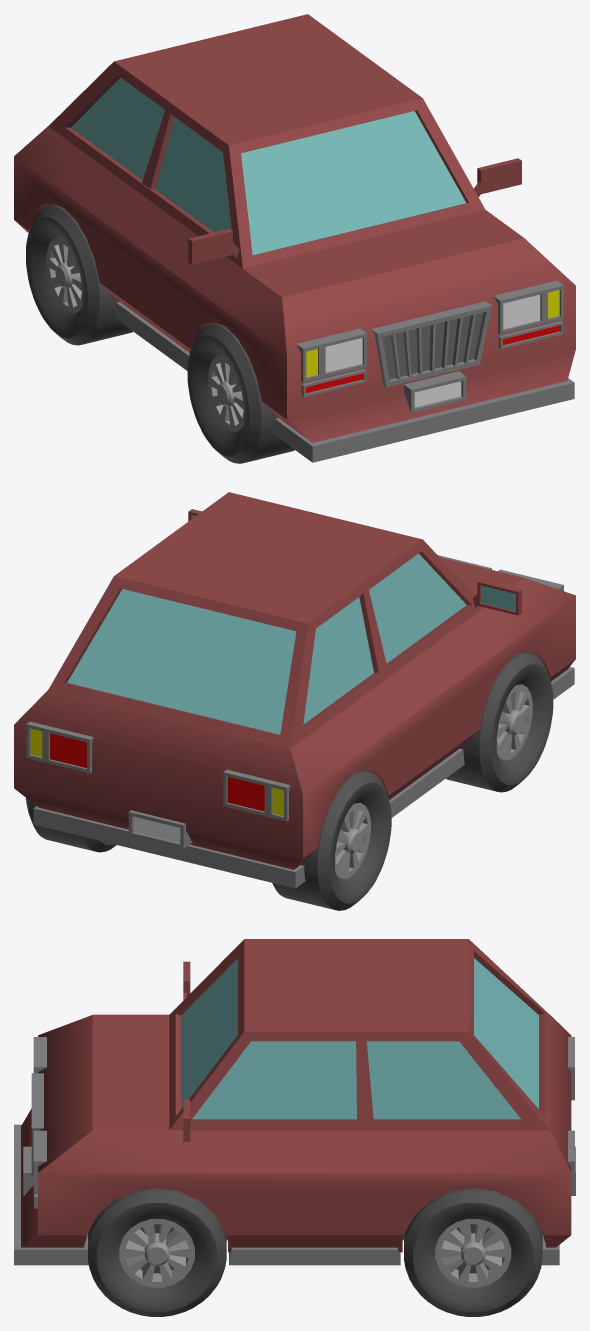
File: Carritohatch.fbx
3 renders of one model, top to bottom at view 1: azimuth 30°, elevation 25°; view 2: azimuth 150°, elevation 25°; view 3: azimuth 270°, elevation 25°, orthographic. The views are drawn at different scales.
Visible parts, largest first — view 1: polySurface1, pCylinder2, polySurface2, pCube2, pCube1, pCube5, pCube3, pCube4; view 2: polySurface1, pCylinder2, polySurface2, pCube1, pCube4, pCube5; view 3: polySurface1, pCylinder2, polySurface2, pCube1, pCube2, pCube5, pCube4.
Boxes of the visible parts, box(x1,y1,x2,y2) form: polySurface1: box(14, 14, 575, 442); pCylinder2: box(26, 204, 294, 463); polySurface2: box(115, 302, 574, 462); pCube2: box(371, 301, 491, 387); pCube1: box(296, 280, 563, 382); pCube5: box(188, 158, 521, 264); pCube3: box(301, 321, 563, 397); pCube4: box(404, 371, 466, 413); polySurface1: box(14, 492, 575, 869); pCylinder2: box(26, 651, 553, 910); polySurface2: box(33, 667, 574, 888); pCube1: box(26, 569, 563, 821); pCube4: box(128, 810, 192, 848); pCube5: box(188, 509, 521, 615); polySurface1: box(21, 939, 571, 1252); pCylinder2: box(88, 1188, 542, 1316); polySurface2: box(14, 1124, 559, 1265); pCube1: box(33, 1037, 574, 1194); pCube2: box(31, 1073, 43, 1176); pCube5: box(183, 961, 190, 1141); pCube4: box(23, 1146, 575, 1195).
Bounding box in the file's own units: 3.07 × 2.39 × 4.63.
